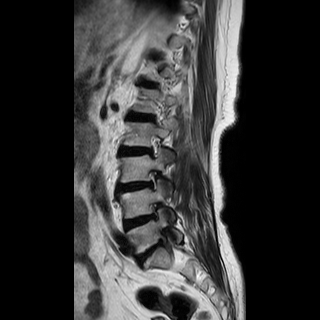LFS0: (143, 130, 167, 164)
LFS2: (141, 164, 169, 197)
LFS3: (141, 200, 169, 226)
